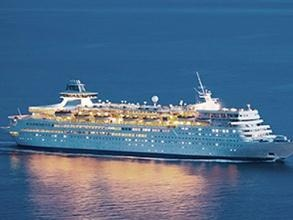youlun: (5, 78, 293, 159)
